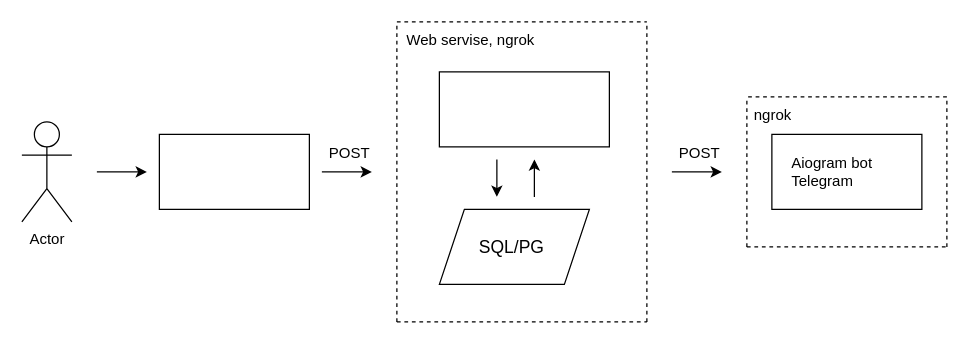
Image size: 970x345. Some labels were removed from this diagram. The shapes that lost their labels are listed below. From the top down, each one's centre as x and y in pixels, then its label:
the point at 523,109: Django-serves
the point at 233,171: Faceapi.js
